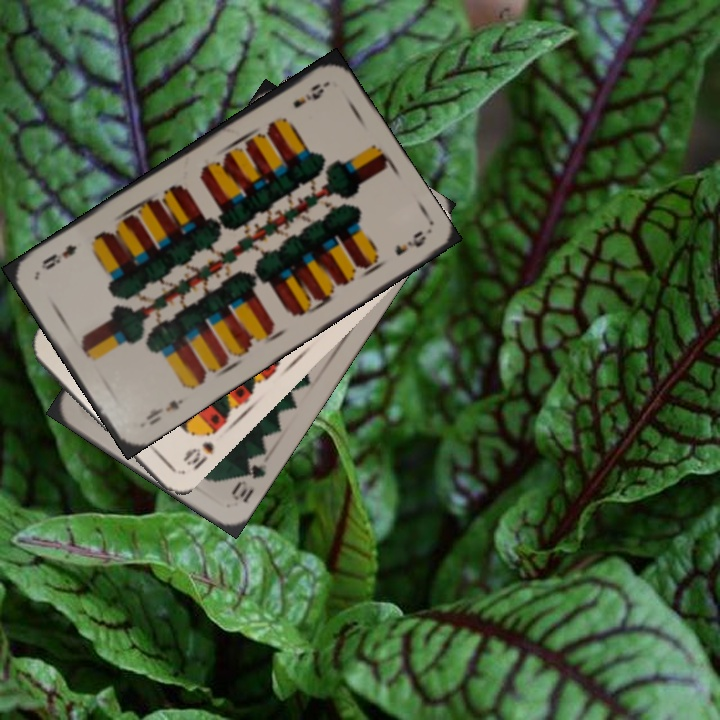E9: (141, 395, 186, 428), (289, 78, 329, 111)
G10: (227, 450, 270, 506)
S10: (179, 437, 217, 472)
